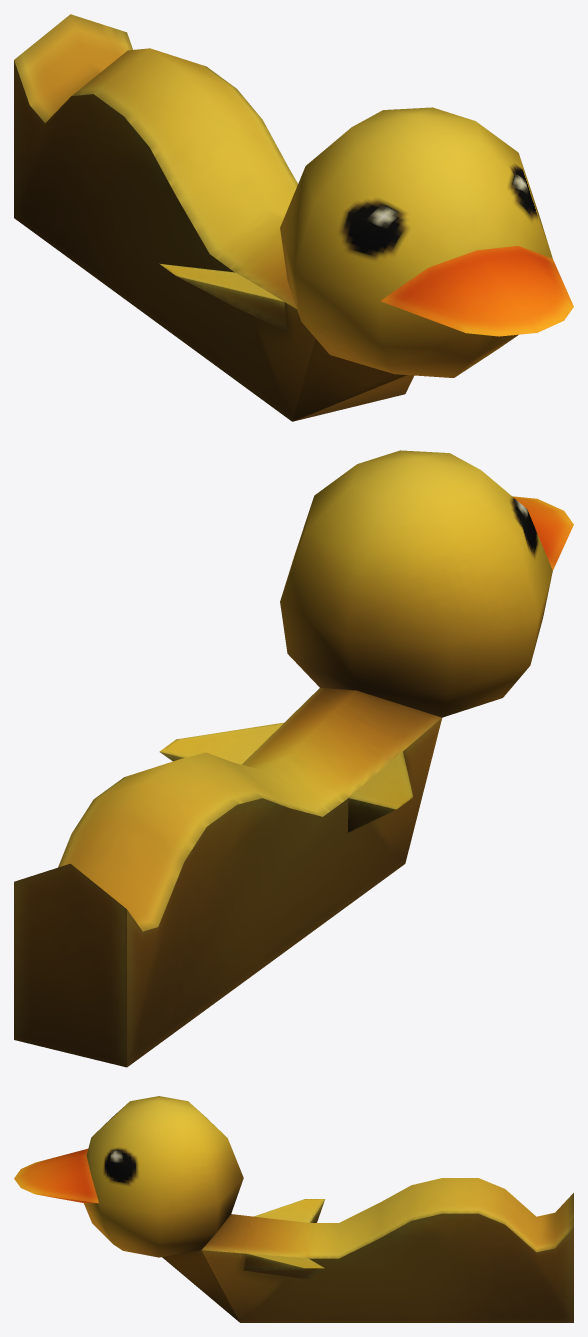
File: datan_common_ss0_body64_prt_5b4047be.obj
3 views of the same model, one above another, from view 1: azimuth 30°, elevation 25°; view 2: azimuth 150°, elevation 25°; view 3: azimuth 270°, elevation 25° (orthographic). The views are drawn at different scales.
Parts seen in each view (by area): view 1: datan_common_ss0_body64_prt_5b4047be_mesh00; view 2: datan_common_ss0_body64_prt_5b4047be_mesh00; view 3: datan_common_ss0_body64_prt_5b4047be_mesh00.
Boxes of the visible parts, bbox=[...] form: datan_common_ss0_body64_prt_5b4047be_mesh00: bbox=[14, 14, 573, 421]; datan_common_ss0_body64_prt_5b4047be_mesh00: bbox=[14, 450, 573, 1067]; datan_common_ss0_body64_prt_5b4047be_mesh00: bbox=[14, 1096, 573, 1322].
Size of the model in its own units: 0.5374 by 0.7182 by 1.78.
1 material, 1 textured.
